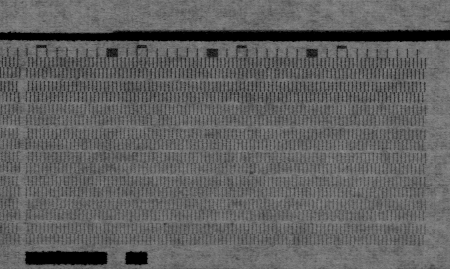Broken hole: (150, 115, 161, 128)
